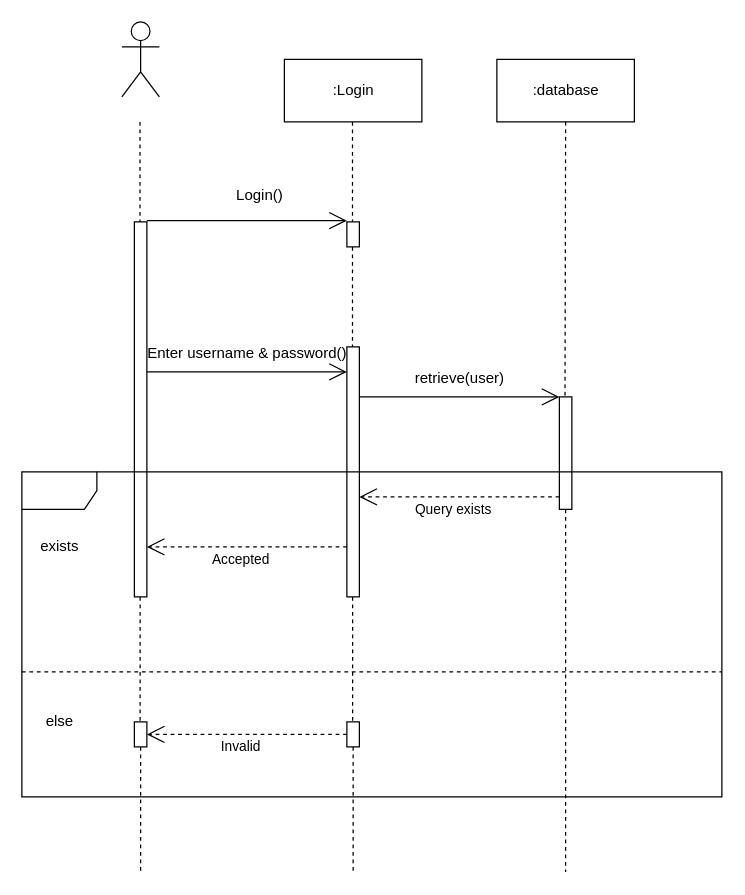
The diagram is 745 pixels wide and 895 high, and some of its shapes have lost their labels. Here are the shapes that lost their labels. From the top down, the box of each, then its label:
(121, 21, 159, 97): User
(21, 471, 722, 797): alt
